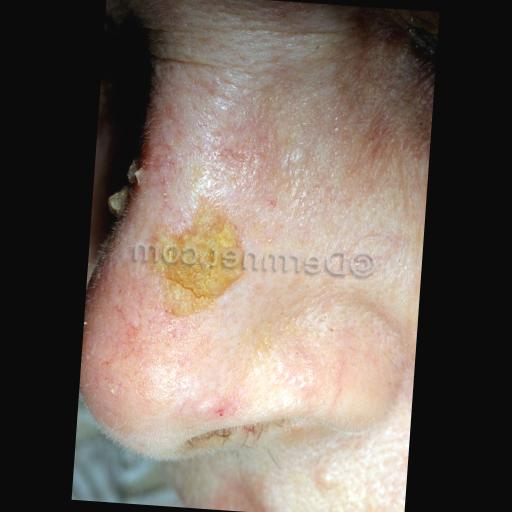Skin_Lesion: (150, 208, 250, 324)
